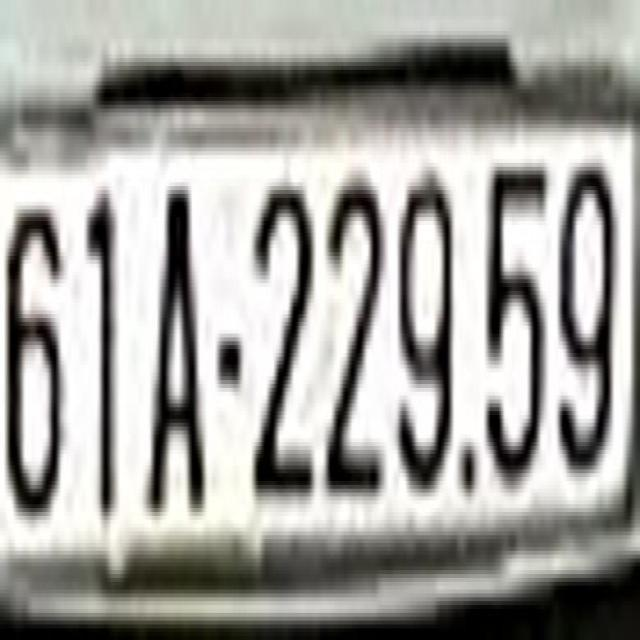1: (80, 166, 122, 532)
2: (318, 124, 388, 512), (252, 155, 314, 493)
5: (480, 132, 546, 492)
6: (5, 183, 64, 532)
9: (554, 112, 622, 500), (386, 144, 457, 492)
A: (150, 159, 208, 516)
